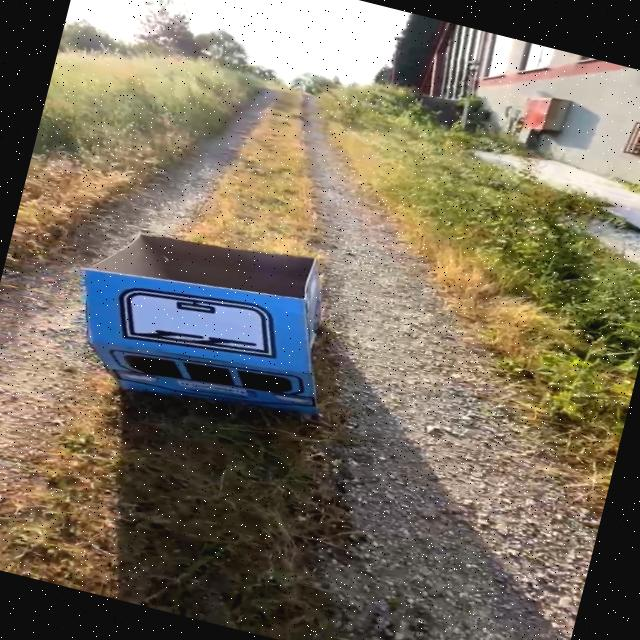blue_car: (29, 169, 434, 485)
